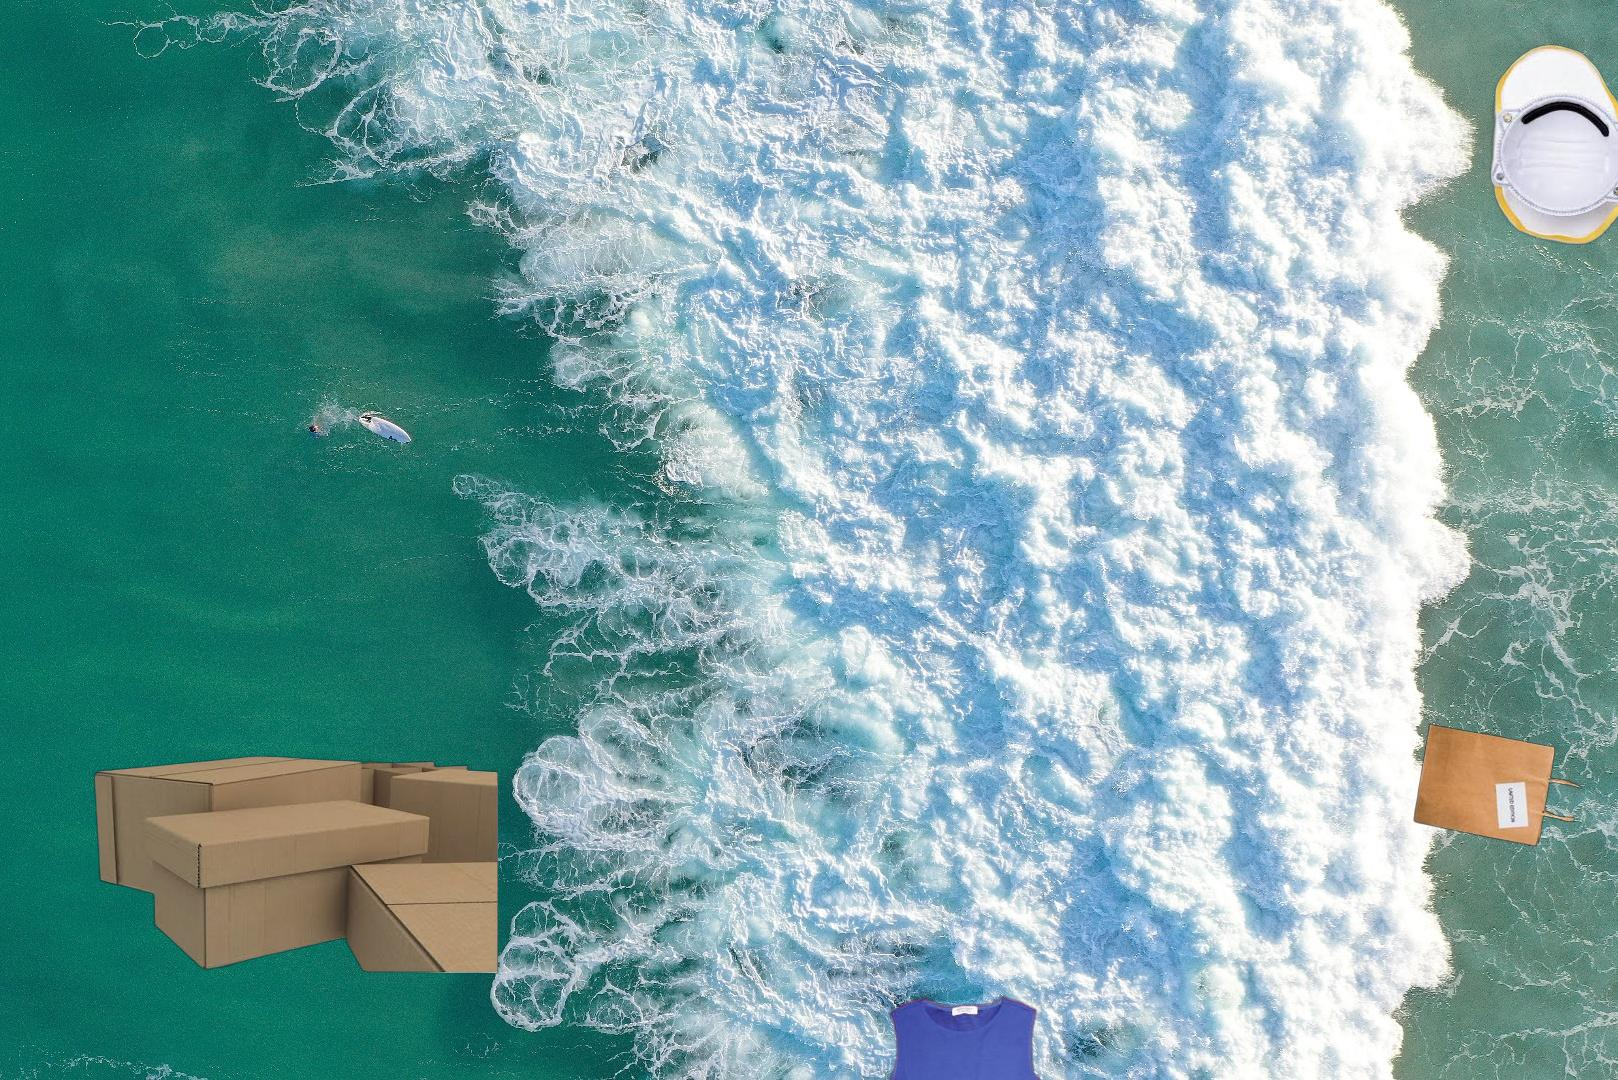clothes: (852, 992, 1101, 1080)
paper-bag: (1411, 721, 1584, 849)
trash: (1487, 42, 1618, 247)
trashbox-cardboard: (90, 753, 498, 978)
